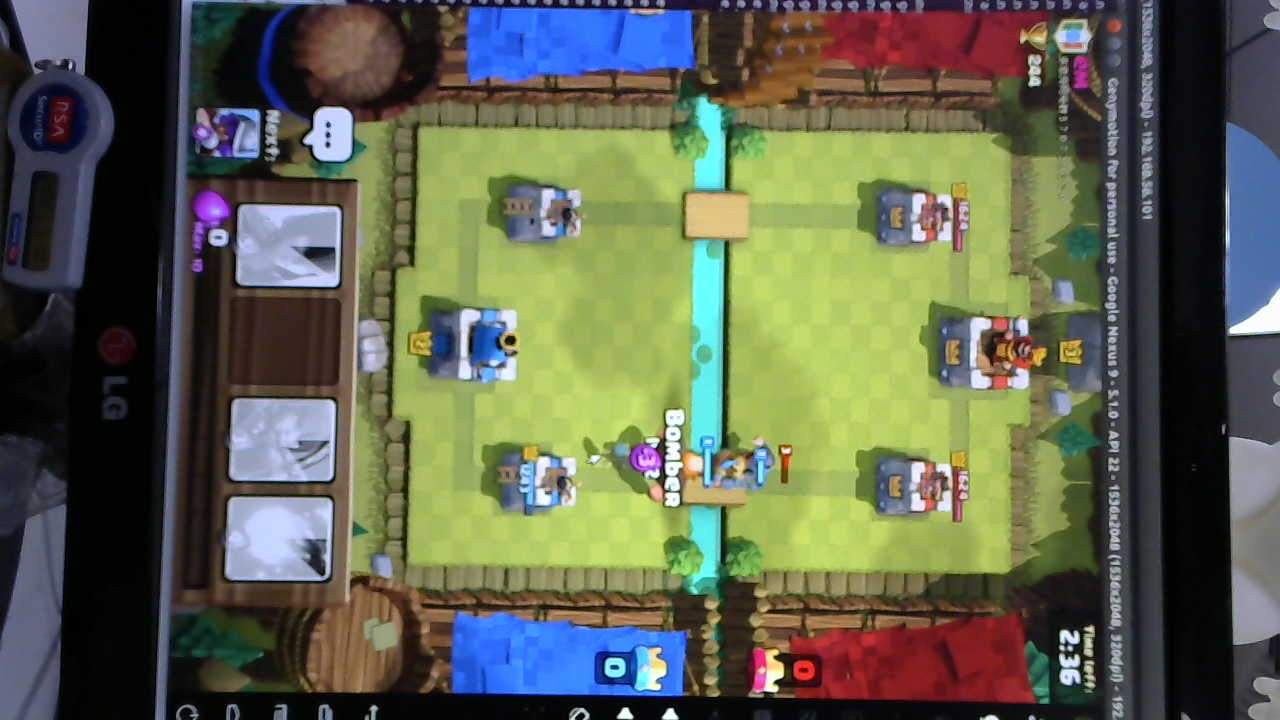arena: (499, 176, 587, 245), (507, 449, 584, 510)
earena: (872, 454, 957, 519), (879, 185, 958, 248)
eking: (937, 312, 1036, 394)
giant: (652, 426, 703, 507)
king: (433, 306, 523, 387)
knight: (742, 432, 778, 490)
prince: (710, 447, 760, 491)
